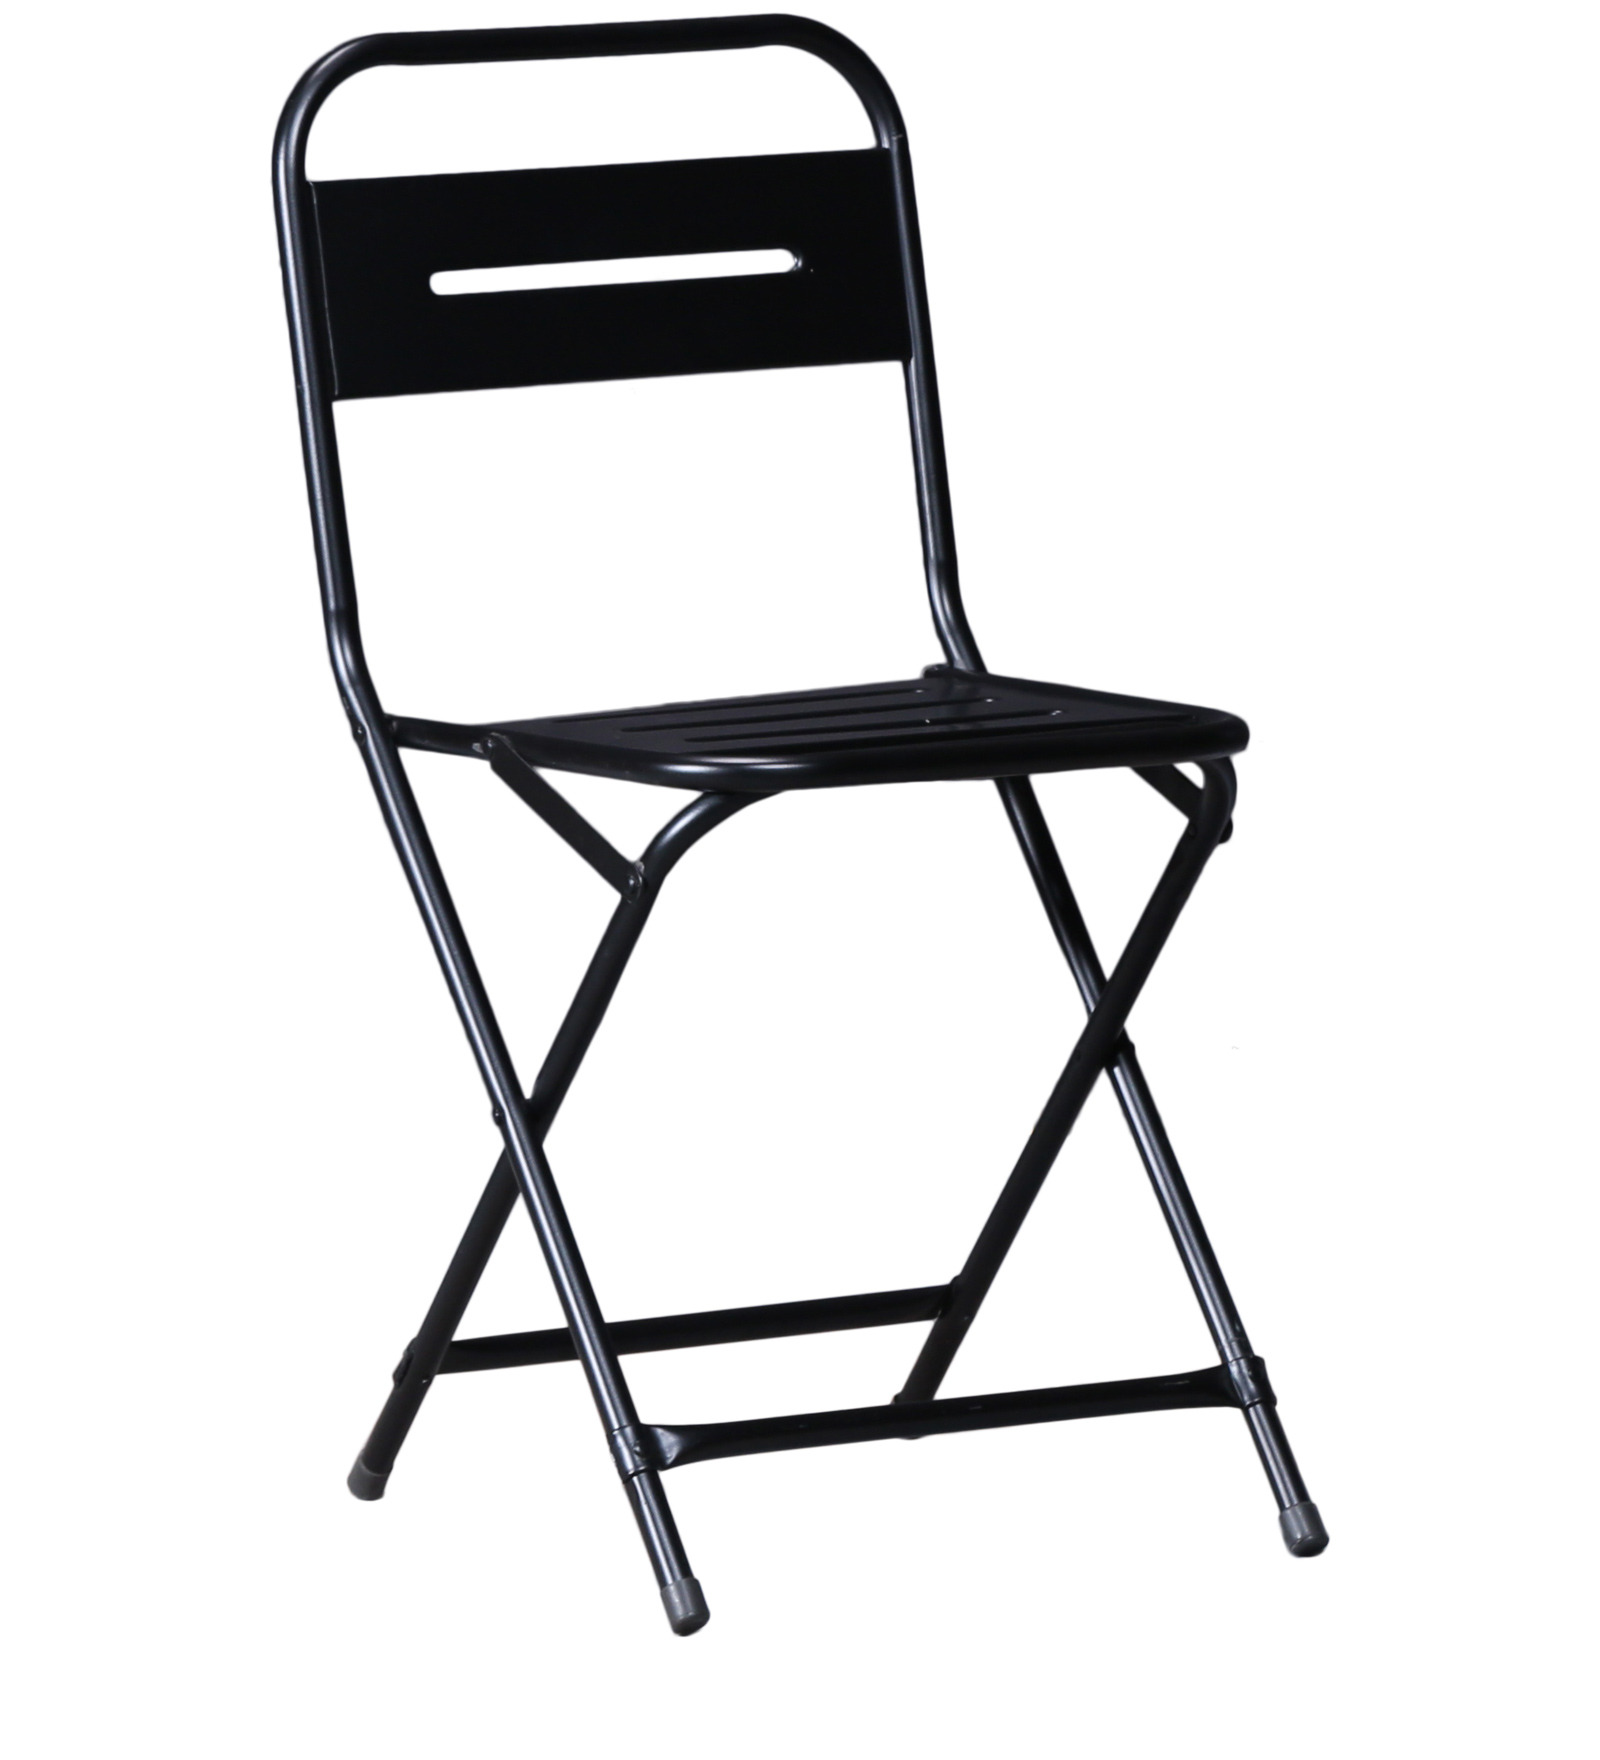Marandoo Grunge Black Outdoor Folding Chair by Bohemiana: (270, 17, 1349, 1637)
